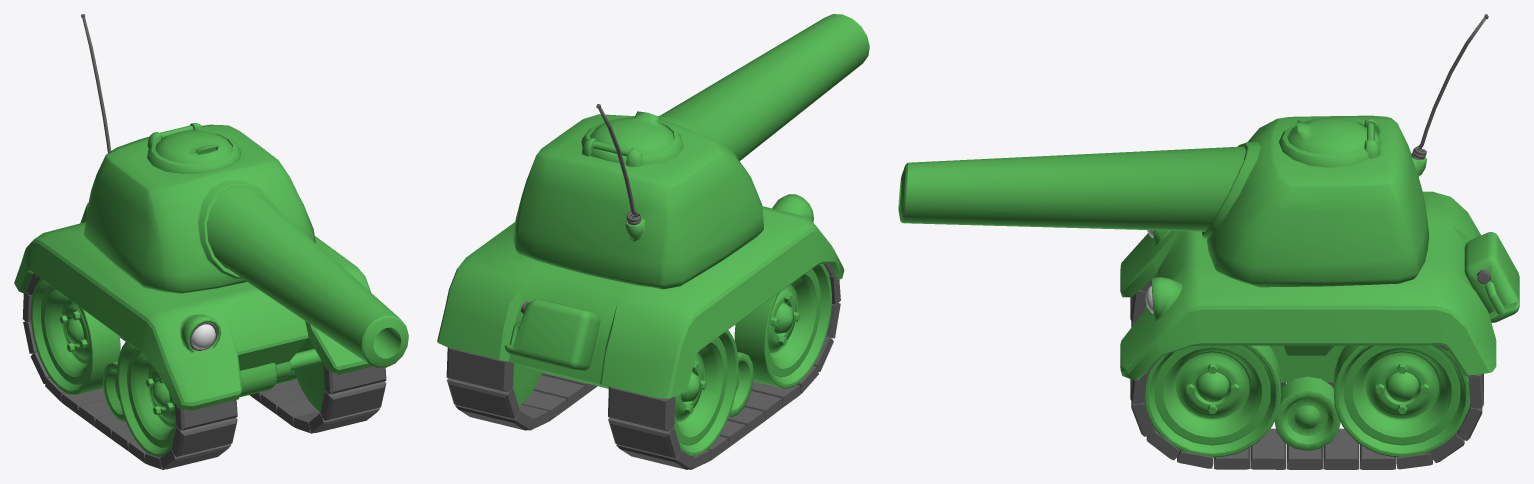
File: Tank4 - Copy.fbx
3 renders of one model, left to right at view 1: azimuth 30°, elevation 25°; view 2: azimuth 150°, elevation 25°; view 3: azimuth 270°, elevation 25°, orthographic. The views are drawn at different scales.
Visible parts, largest first — view 1: Tank3; view 2: Tank3; view 3: Tank3.
Boxes of the visible parts, box(x1,y1,x2,y2) form: Tank3: box(14, 14, 408, 469); Tank3: box(437, 14, 869, 469); Tank3: box(898, 14, 1519, 469).
Bounding box in the file's own units: 17018 × 24870 × 36806.
